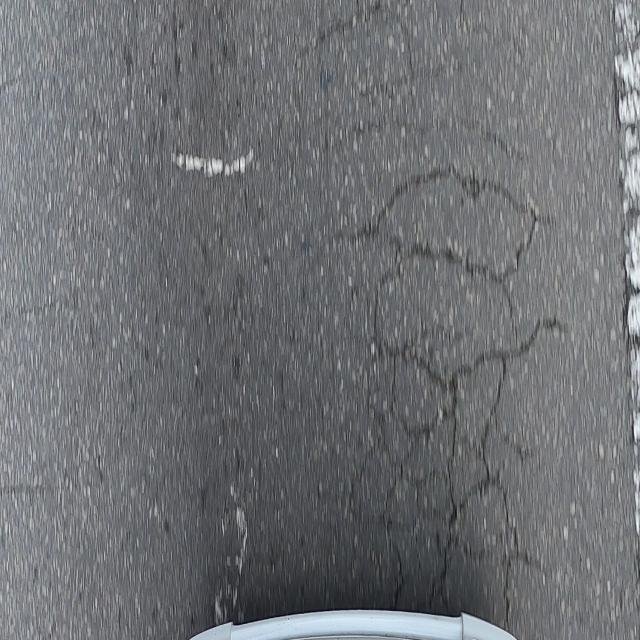Retak-Buaya: (353, 165, 561, 624)
